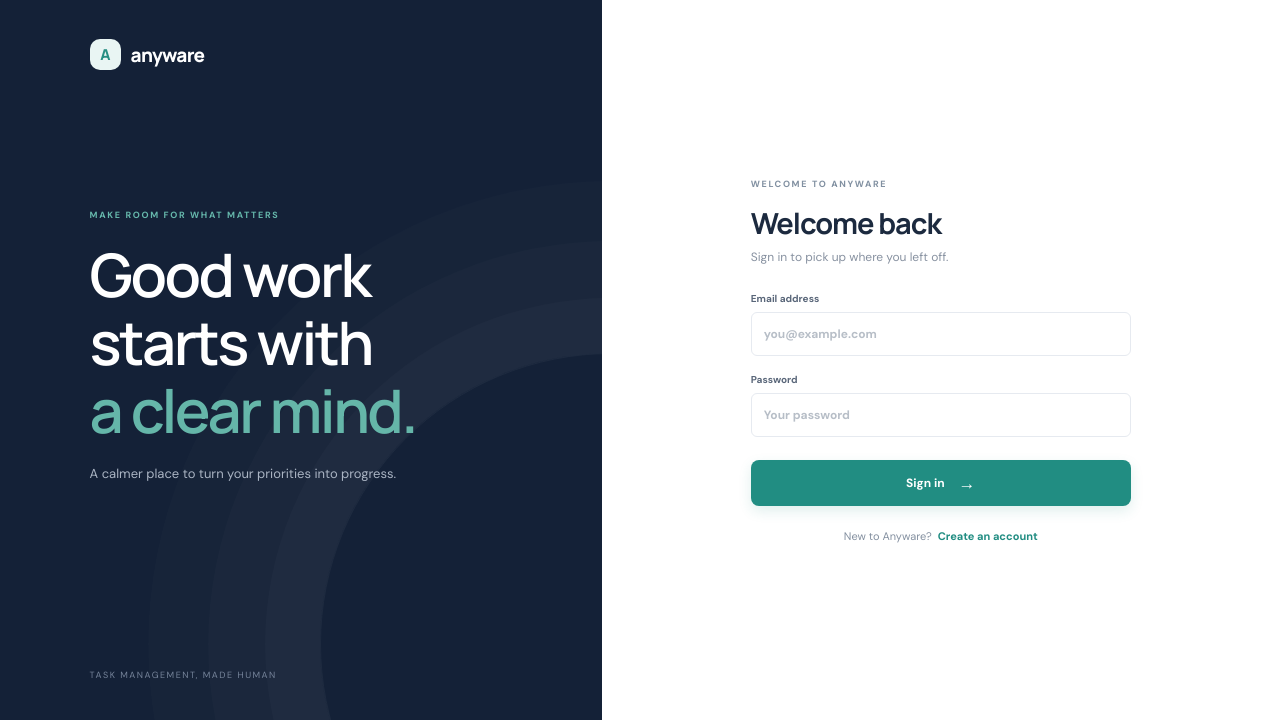
Test: authentication forms › shows a readable server error on login
Type "donny@example.com" into the field labelled "Email address". click: x=941, y=334
box: [751,312,1131,356]
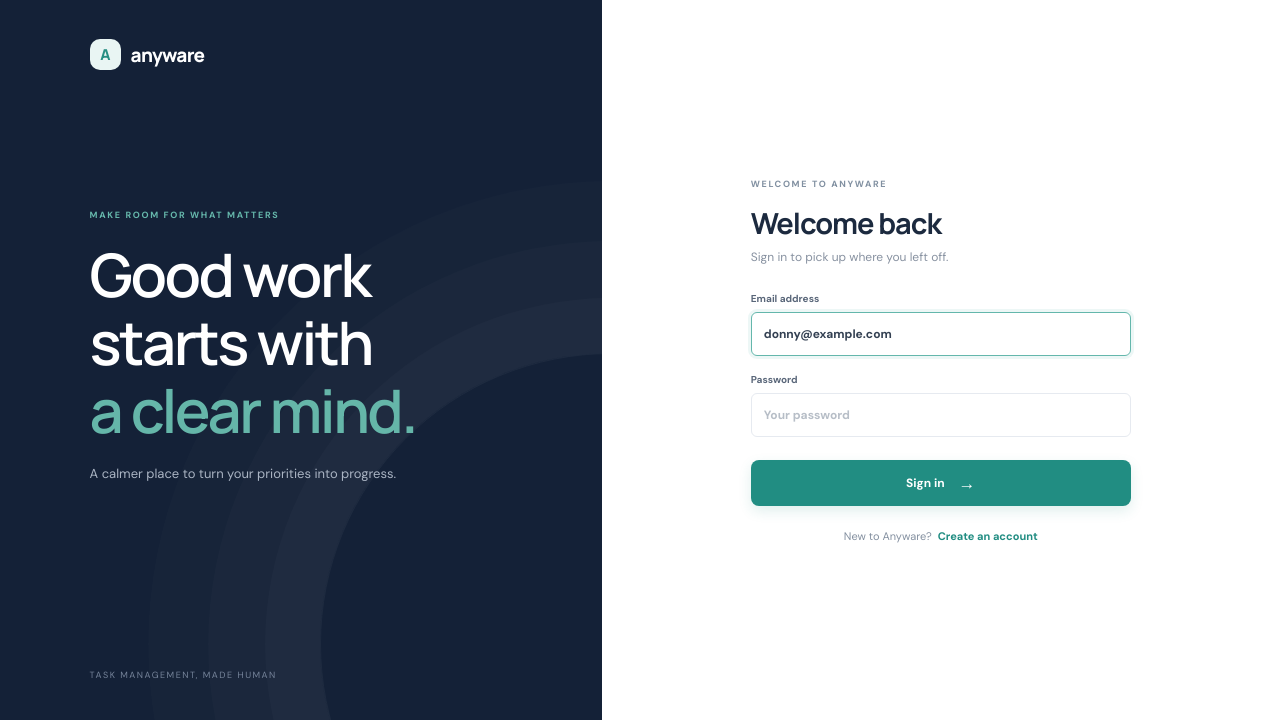
Type "correct-horse" into the password field labelled "Password". click: x=941, y=414
box: [751,392,1131,436]
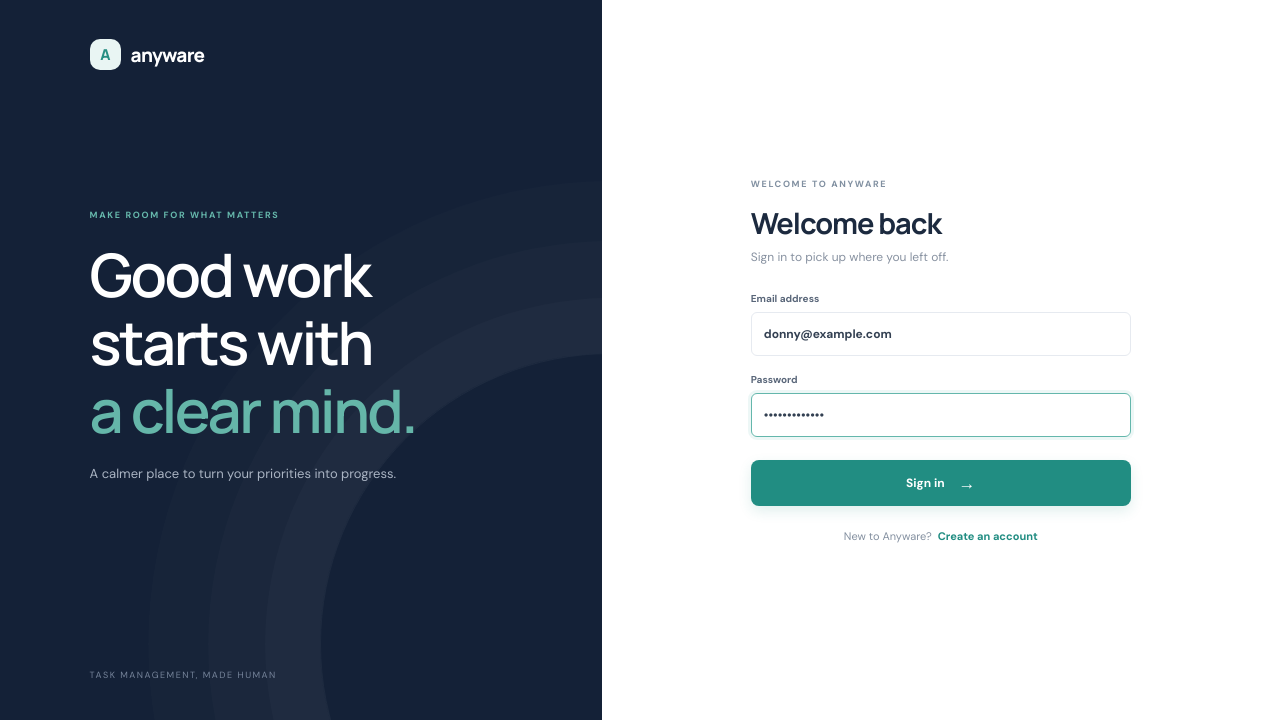
Click the button "Sign in →". click: x=941, y=482
box: [751,460,1131,506]
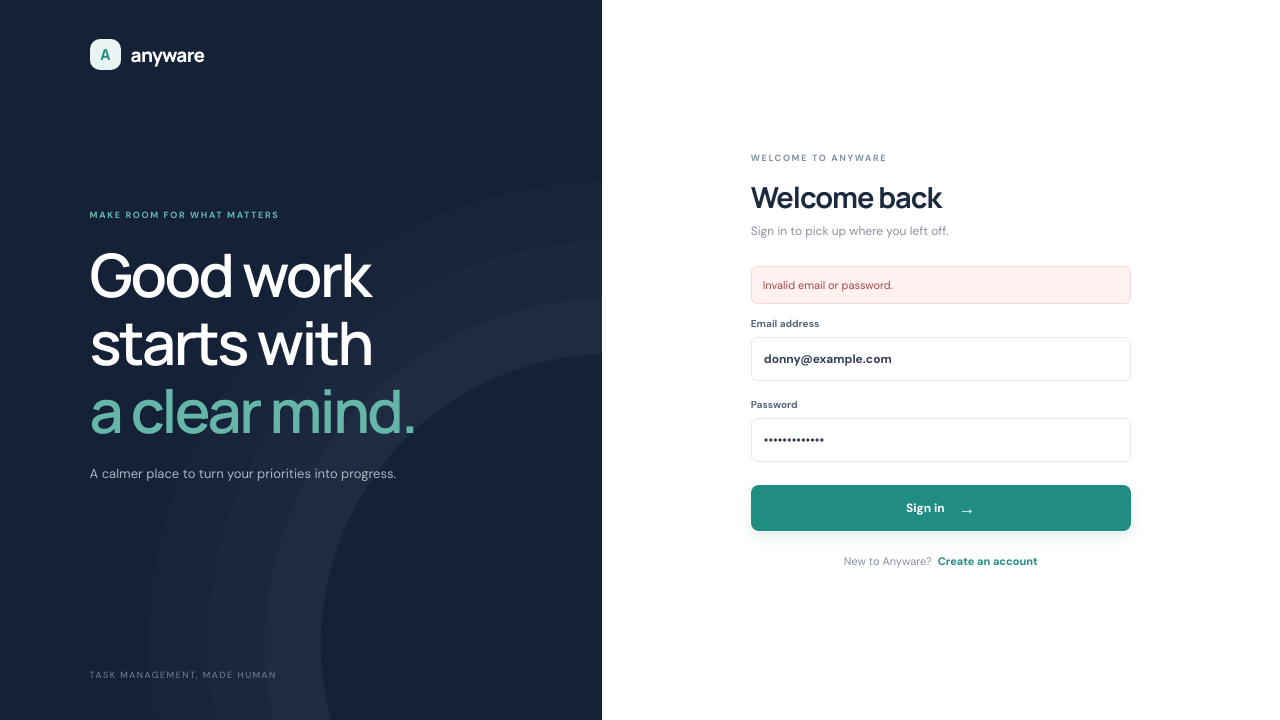
expect the message reads "Invalid email or password.": met, box [763,278,893,292]
